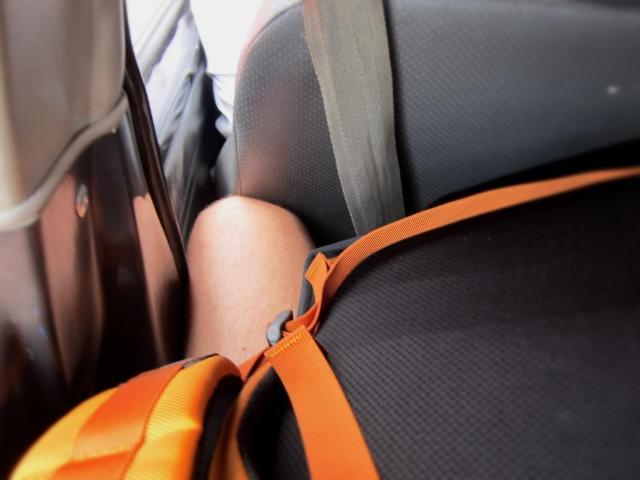Seatbelt: (5, 168, 640, 480), (302, 0, 406, 238)
